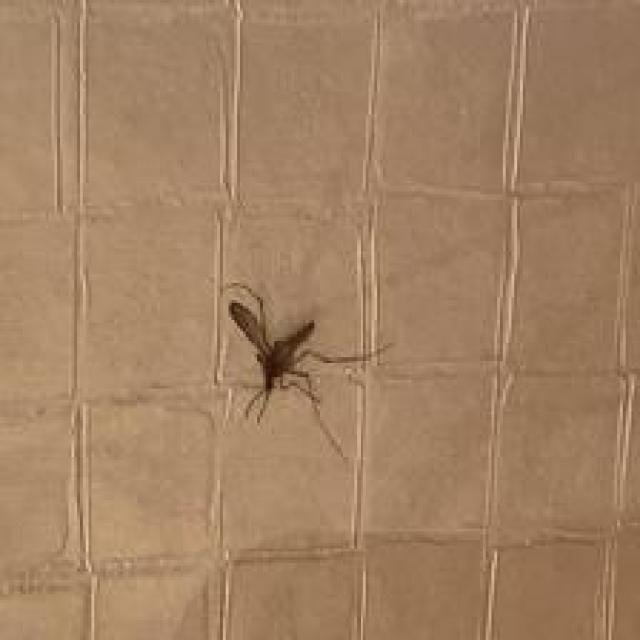Culex: (220, 282, 391, 462)
